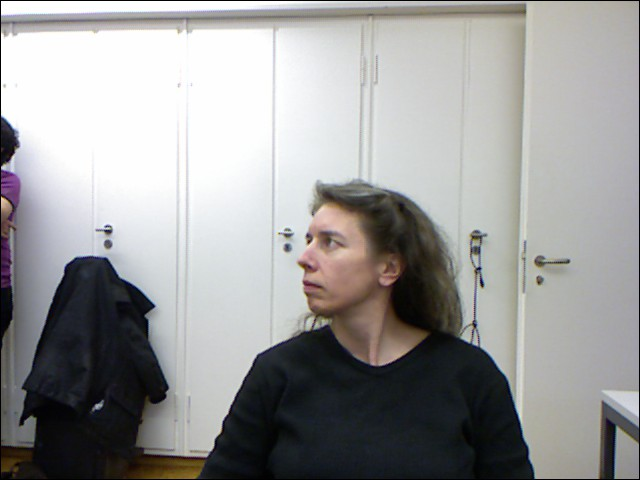deflection: (231, 178, 506, 474)
